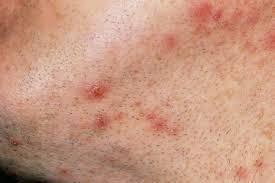papular: (85, 80, 115, 104)
